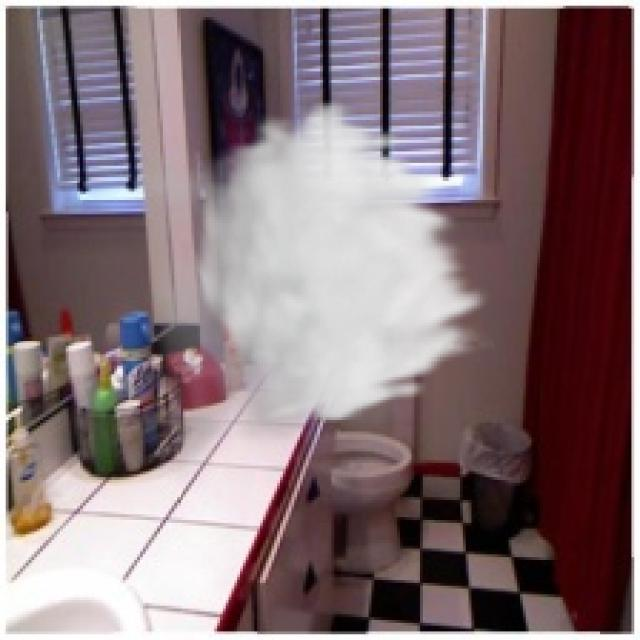smoke: (123, 97, 494, 494)
